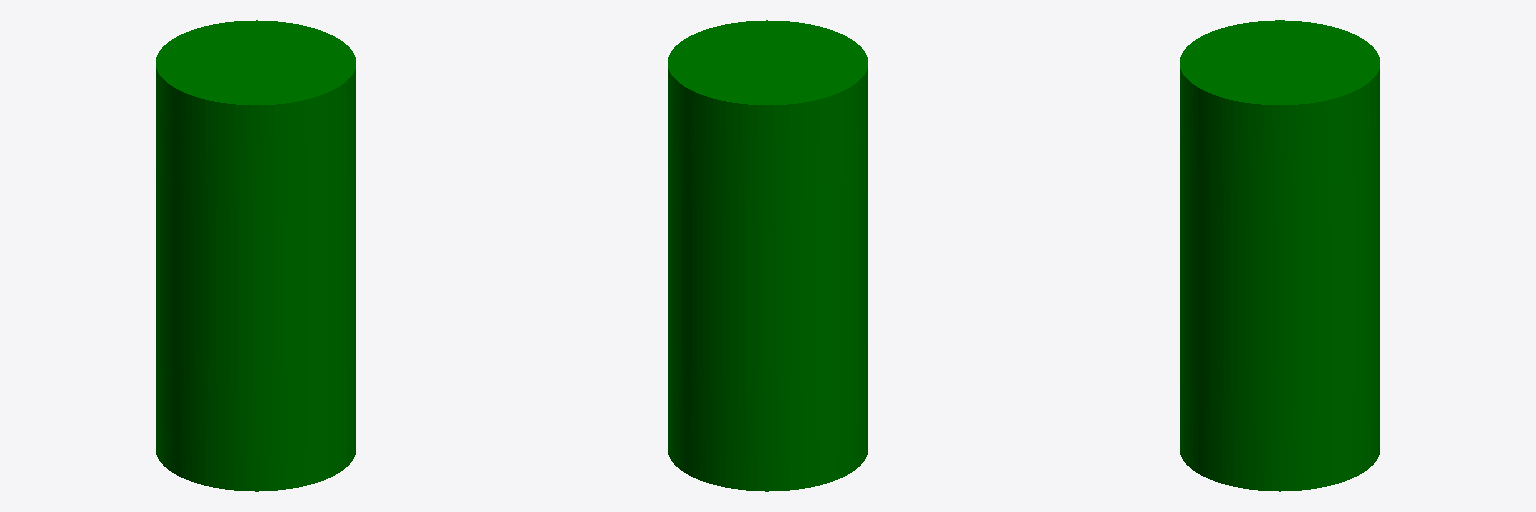
The robot description file, URDF, robot "potato_chips":
<?xml version="1.0"?>

<robot name="potato_chips">

  <link name="base_link">
    <visual>
      <geometry>
        <mesh filename="package://prostbot_gazebo/meshes/potato_chips.stl"/>
      </geometry>
      <material name="green">
        <color rgba="0 0.5 0 1"/>
      </material>
    </visual>
  </link>
</robot>

--- What the picture shows (computed from the rendered views, not written in the file) ---
The picture shows the robot from 3 angles, left to right: view 1: azimuth 30°, elevation 25°; view 2: azimuth 150°, elevation 25°; view 3: azimuth 270°, elevation 25°; orthographic projection.
Robot: potato_chips — 1 links, 0 joints (none); root link base_link; default pose: all joints at 0.
Links seen in each view (by area): view 1: base_link; view 2: base_link; view 3: base_link.
Link boxes in pixels (x1=…): base_link: x1=156, y1=20, x2=355, y2=491; base_link: x1=668, y1=20, x2=867, y2=491; base_link: x1=1180, y1=20, x2=1379, y2=491.
Bounding box of the posed robot: 66 × 65.99 × 140 m (x, y, z).
Meshes: 1 distinct files referenced, 1 mesh visuals loaded (1 binary STL).